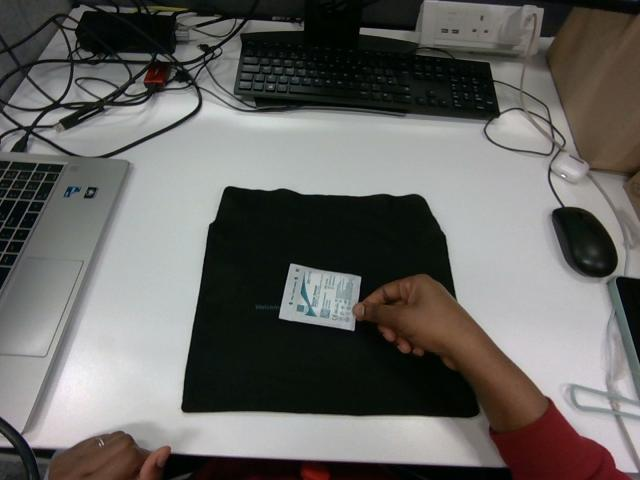gauze: (279, 264, 360, 330)
